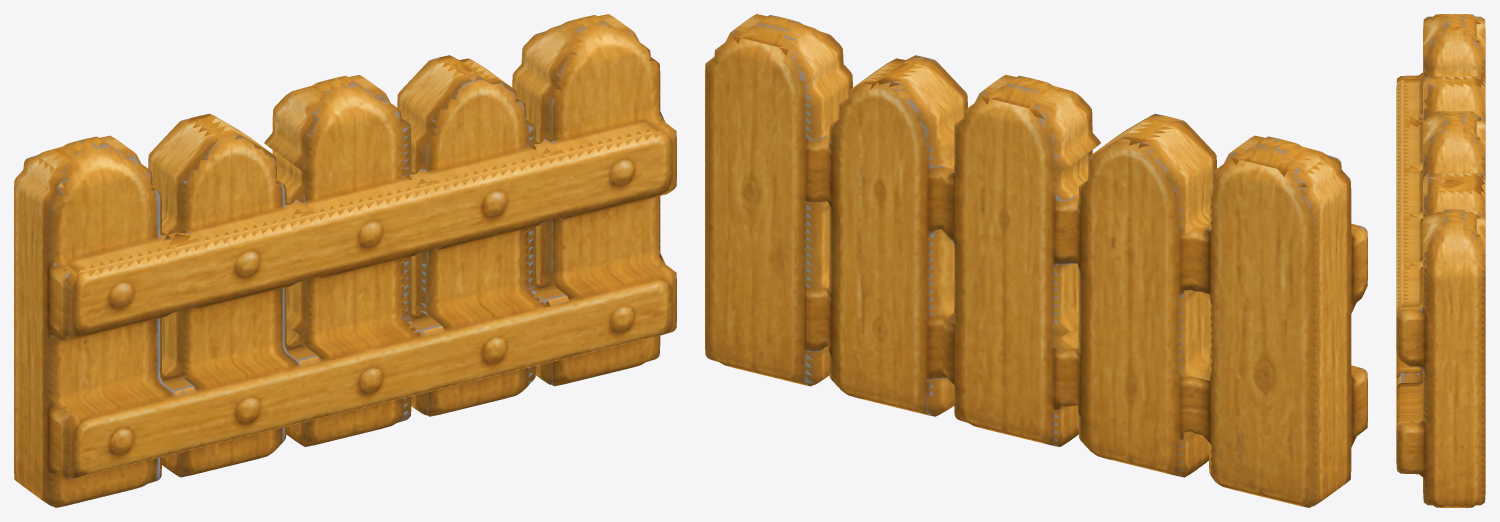
The model's file is fence.glb.
3 views of the same model, side by side, from view 1: azimuth 30°, elevation 25°; view 2: azimuth 150°, elevation 25°; view 3: azimuth 270°, elevation 25° (orthographic). The views are drawn at different scales.
Size of the model in its own units: 1.85 by 1 by 0.2924.
Materials: 1 (1 with a texture image).
